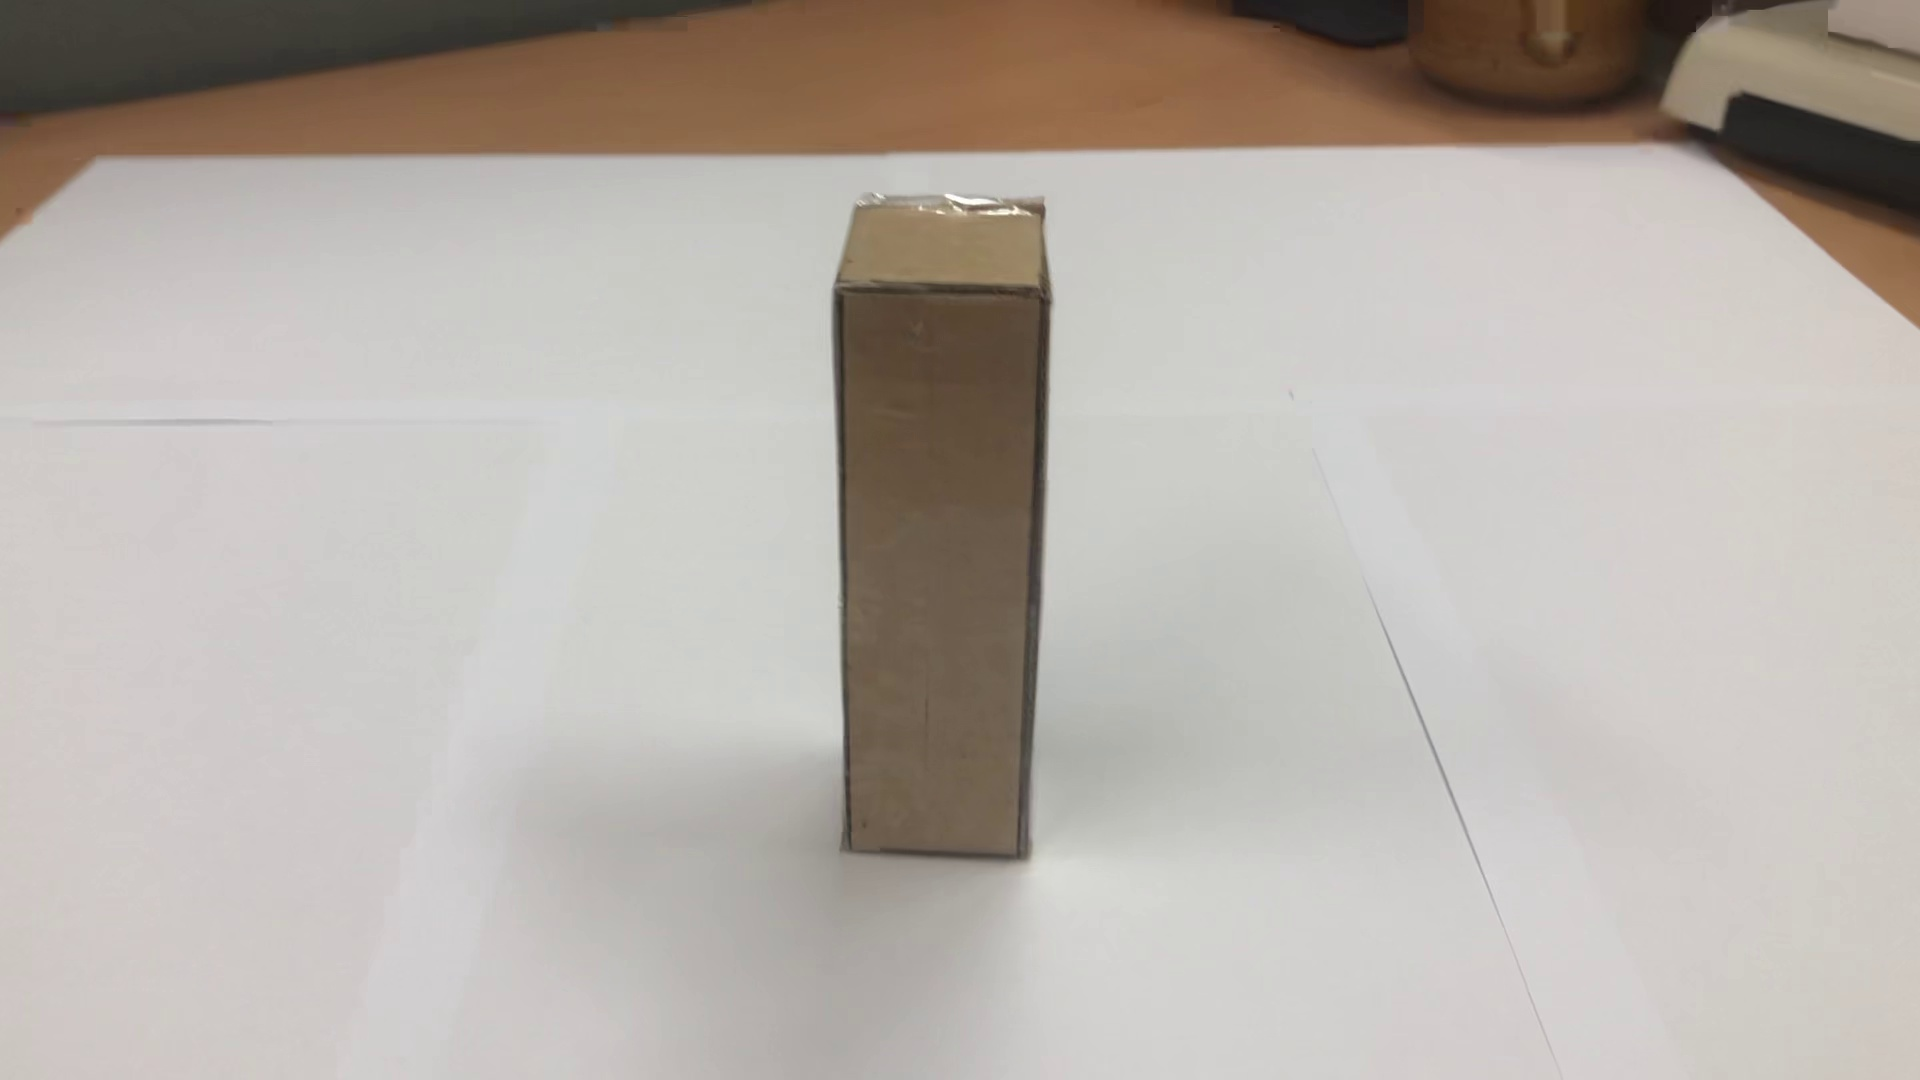box: (800, 177, 1063, 877)
